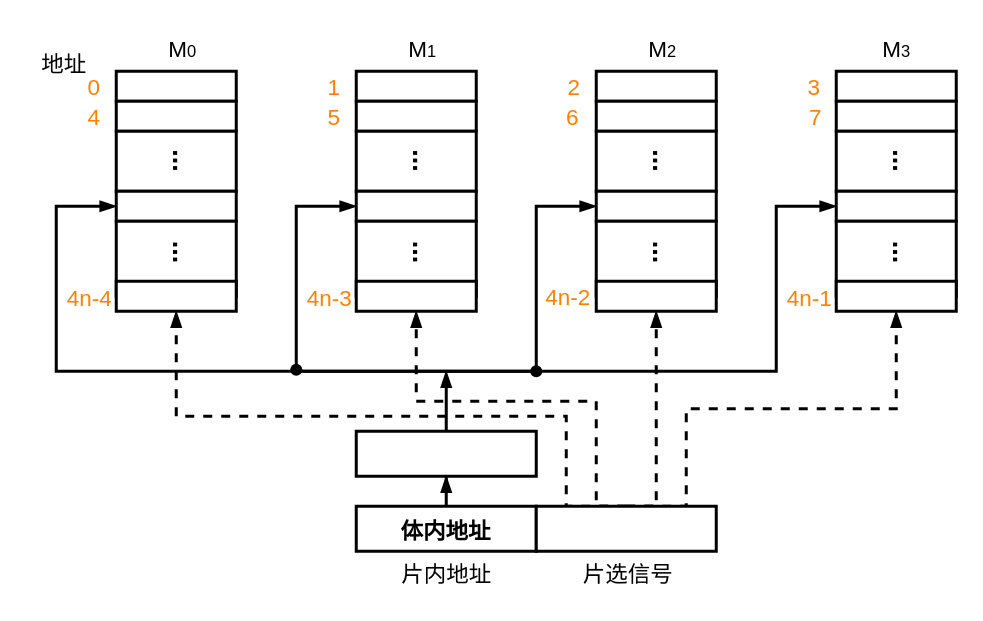
The diagram is 983 pixels wide and 621 high, and some of its shapes have lost their labels. Here are the shapes that lost their labels. From the top down, the centre of each, then its label:
At (445,453): "地址译码".
At (625,528): "体号".
